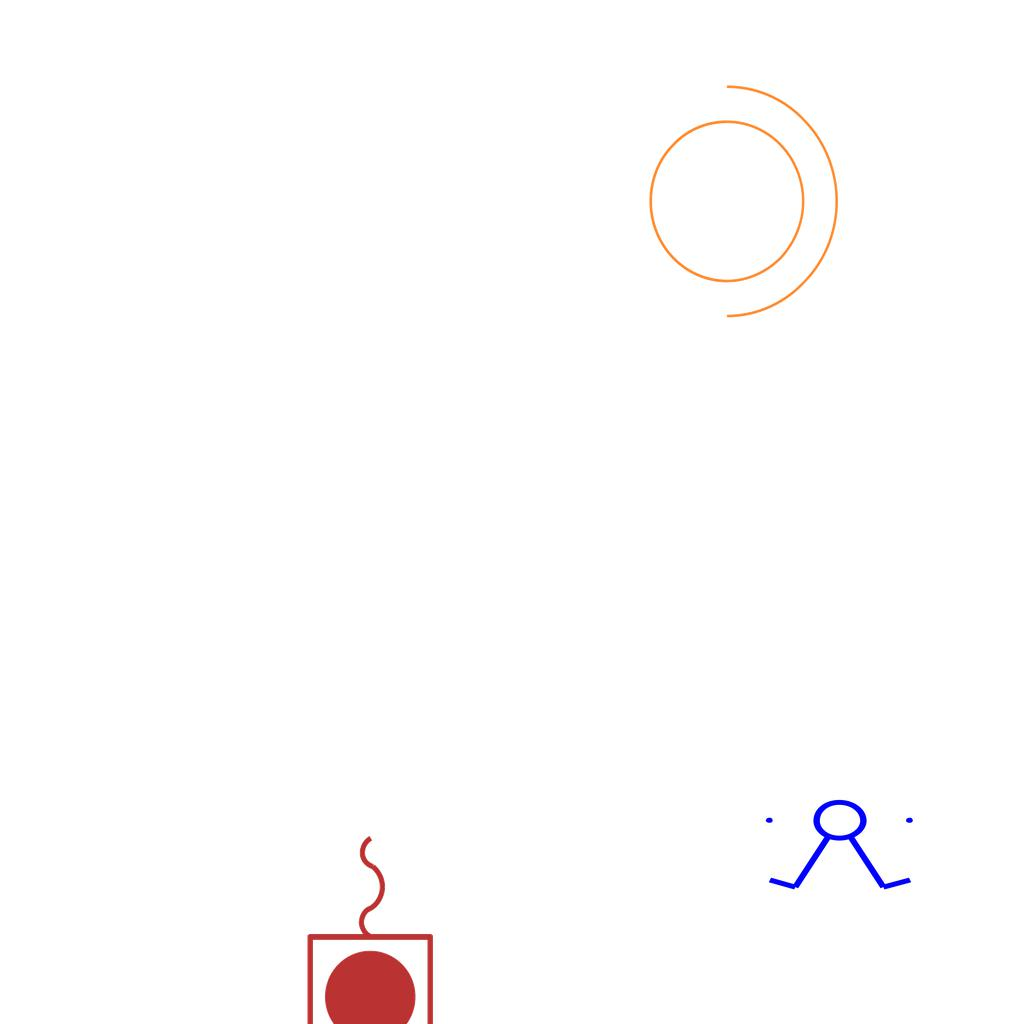Scheinwerfer_fuer_Alarmbeleuchtung: (624, 63, 849, 327)
Serienschalter: (757, 798, 925, 894)
Zugtaster: (300, 825, 444, 1024)
